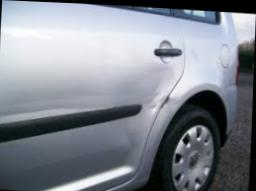Door: (137, 77, 171, 118)
